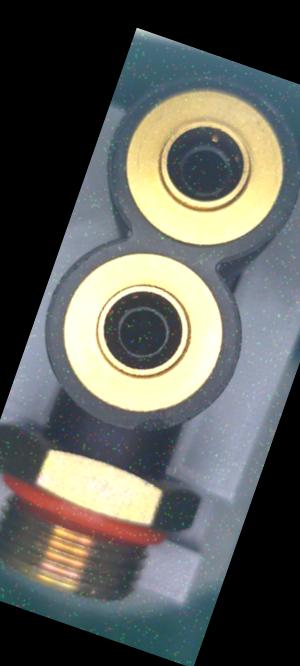bump: (130, 403, 177, 445)
